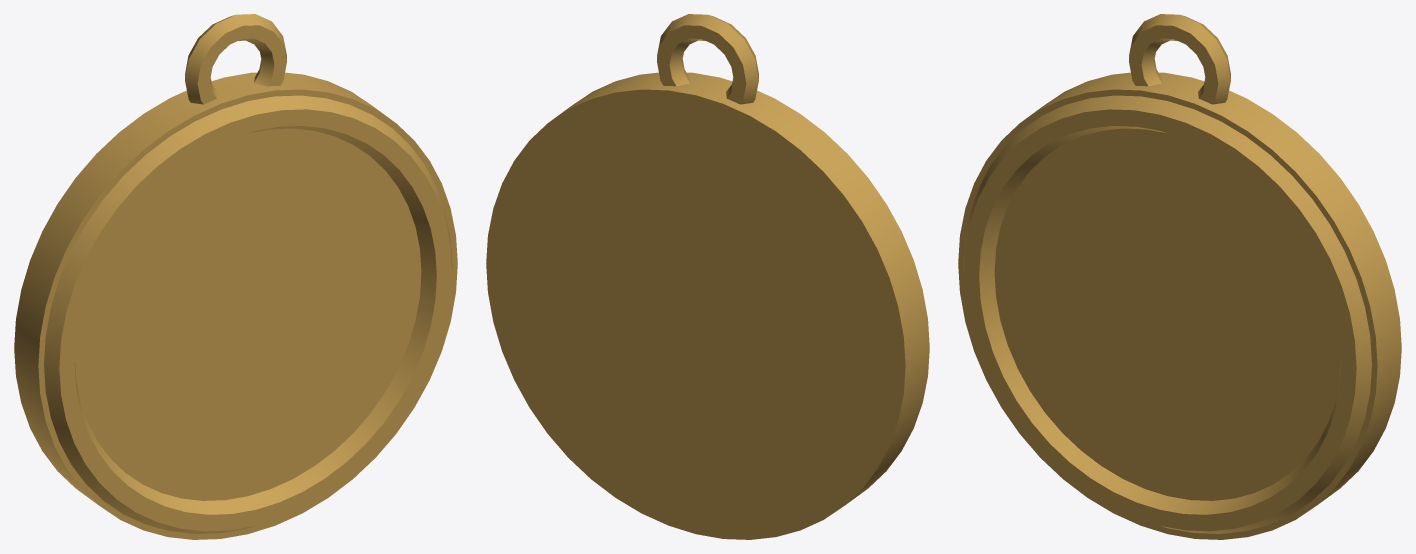
File: WornMedal_Disc.glb
3 views of the same model, side by side, from view 1: azimuth 30°, elevation 25°; view 2: azimuth 150°, elevation 25°; view 3: azimuth 330°, elevation 25° (orthographic).
Visible parts, largest first — view 1: WornMedal_Disc; view 2: WornMedal_Disc; view 3: WornMedal_Disc.
Boxes of the visible parts, bbox=[...] form: WornMedal_Disc: bbox=[14, 14, 457, 539]; WornMedal_Disc: bbox=[486, 14, 929, 539]; WornMedal_Disc: bbox=[958, 14, 1401, 539].
Size of the model in its own units: 0.6 by 0.698 by 0.0791.
